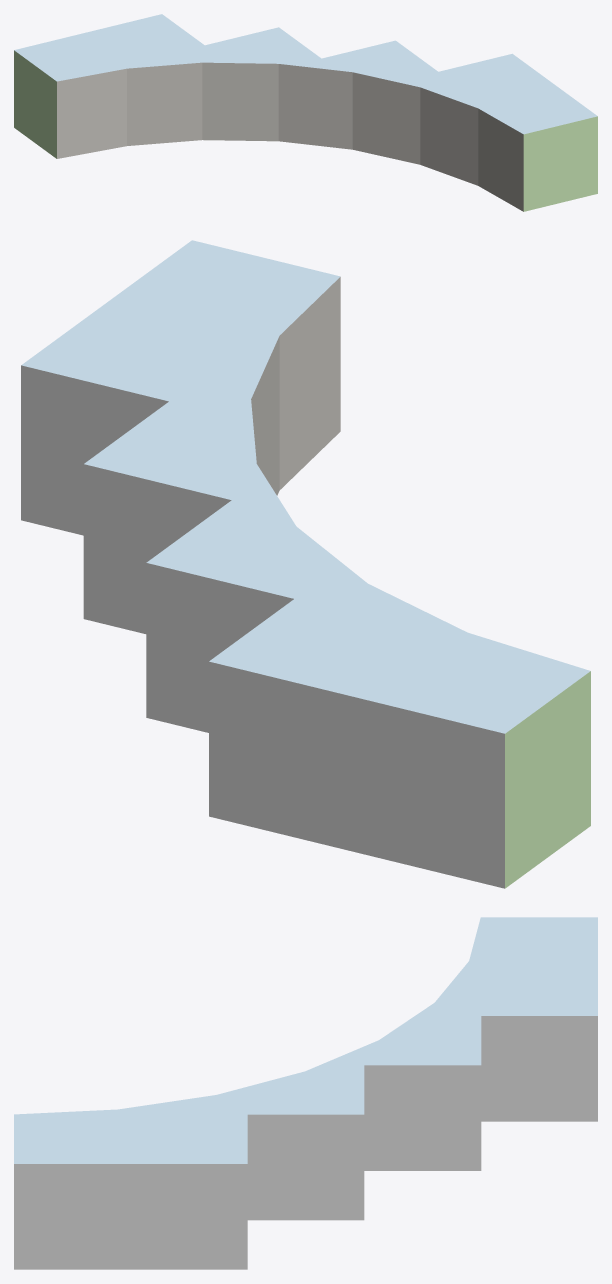
The model's file is Wall_Curve_Inner_5x5_Mid.fbx.
The picture shows the model from 3 angles, top to bottom: view 1: azimuth 30°, elevation 25°; view 2: azimuth 150°, elevation 25°; view 3: azimuth 270°, elevation 25°; orthographic projection. The views are drawn at different scales.
Visible parts, largest first — view 1: Wall_Curve_Inner_5x5_Mid; view 2: Wall_Curve_Inner_5x5_Mid; view 3: Wall_Curve_Inner_5x5_Mid.
Part boxes in pixels (<box>): Wall_Curve_Inner_5x5_Mid: <box>14,14,597,211</box>; Wall_Curve_Inner_5x5_Mid: <box>21,240,590,888</box>; Wall_Curve_Inner_5x5_Mid: <box>14,917,597,1269</box>.
Bounding box in the file's own units: 500 × 100 × 500.
